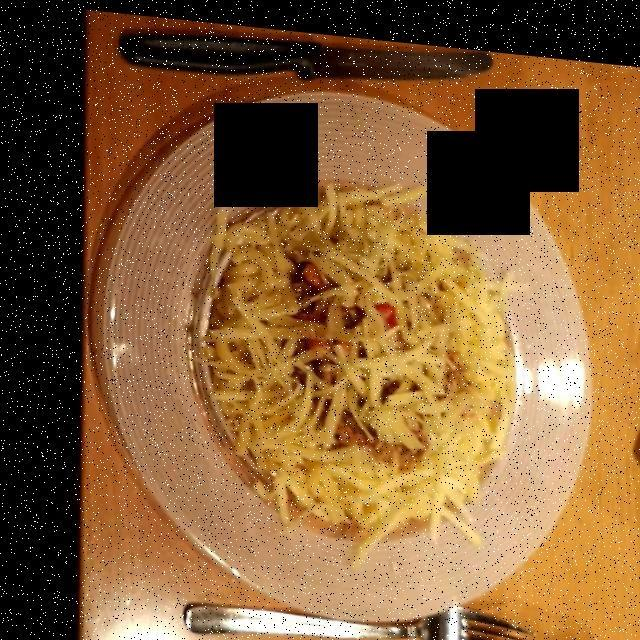bolognaise-sauce: (299, 273, 468, 445)
cheese: (196, 205, 500, 517)
pasta: (201, 163, 504, 510)
